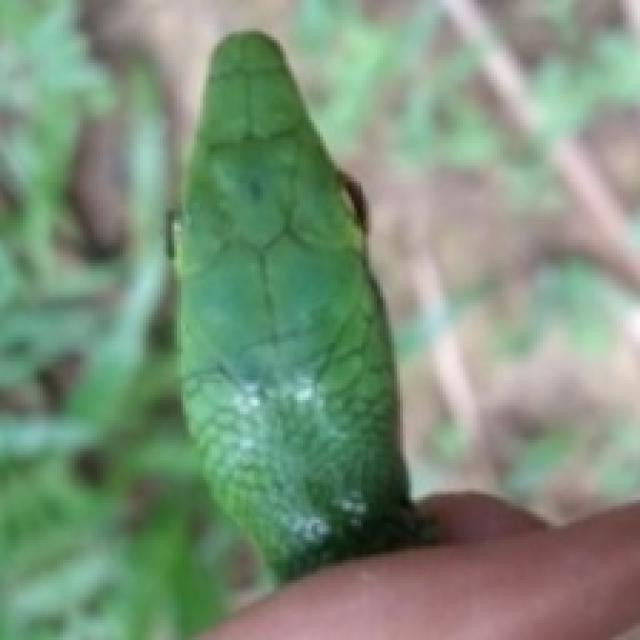red-tailed green ratsnake: (177, 31, 409, 577)
